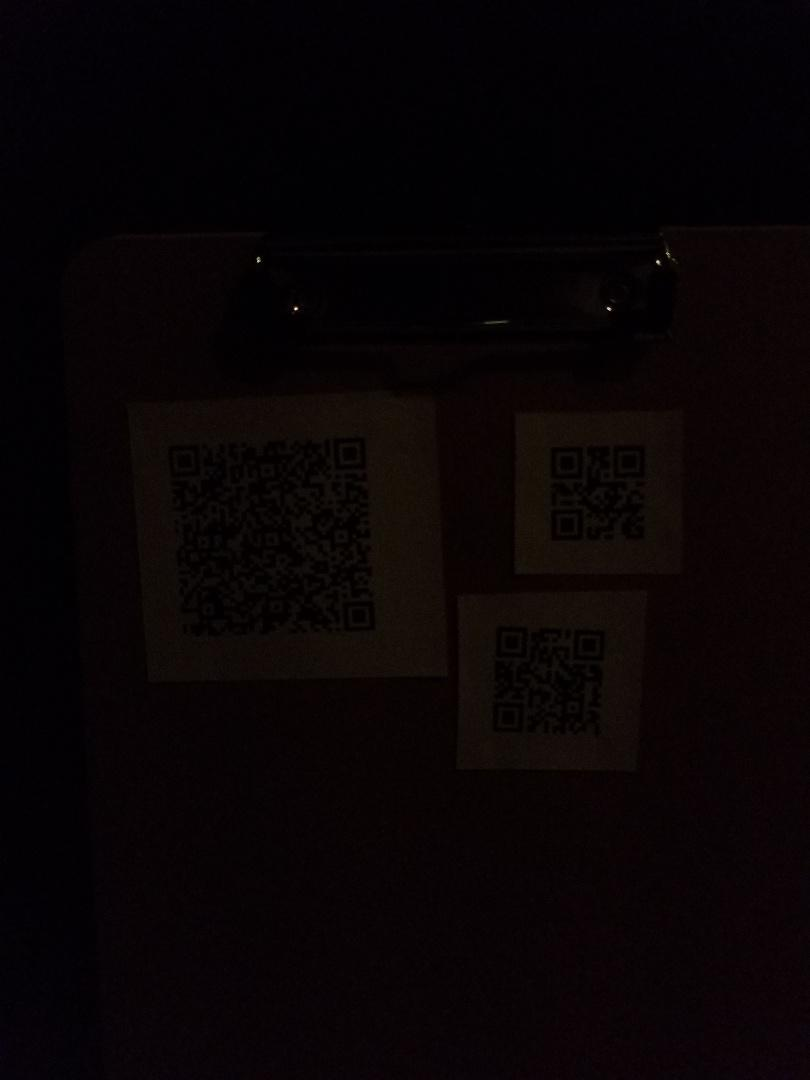Finder pattern: (328, 432, 374, 473), (610, 440, 650, 484), (336, 594, 378, 635), (487, 699, 529, 739), (545, 505, 586, 545), (570, 623, 608, 665), (162, 439, 203, 476), (544, 441, 586, 477), (492, 619, 529, 658)
